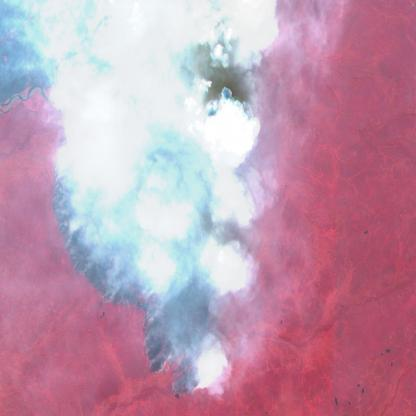fire: (49, 0, 261, 397)
